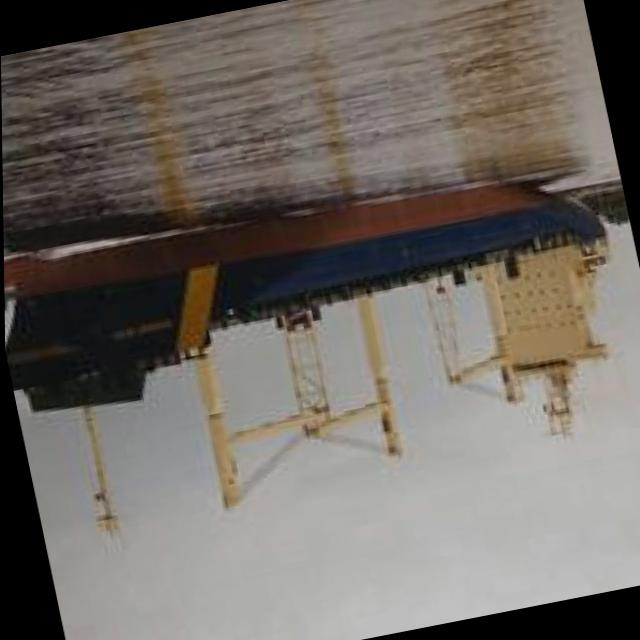ship2: (3, 181, 620, 554)
